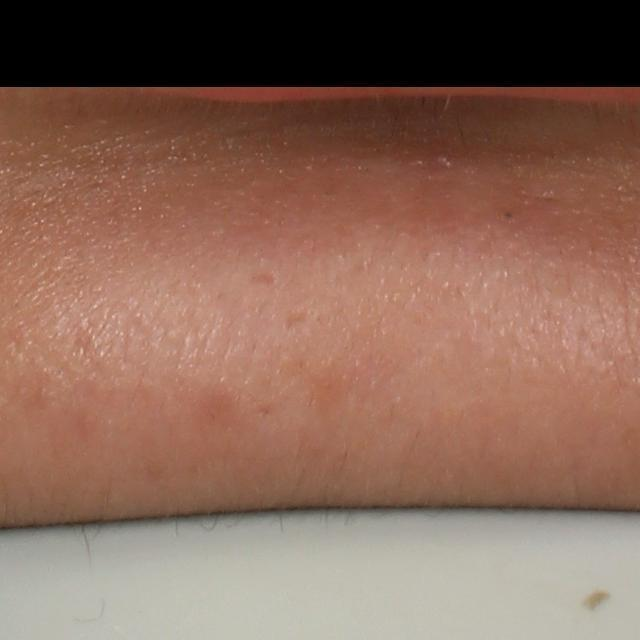atrophic_scar: (249, 268, 283, 291), (284, 308, 316, 332)
